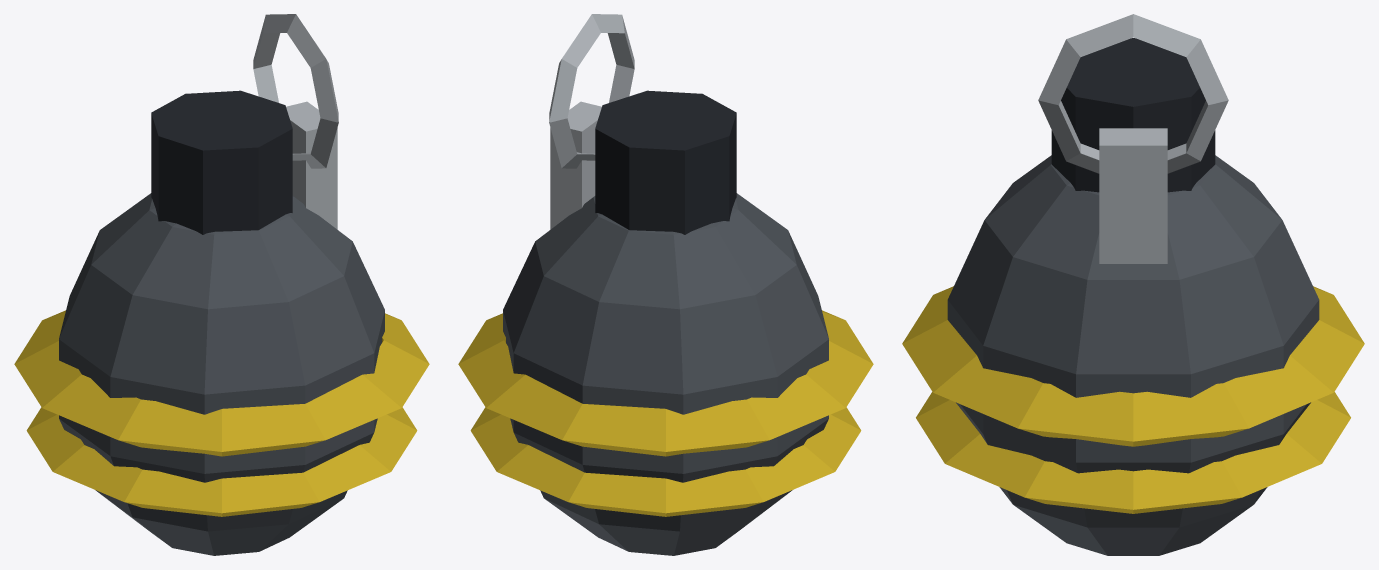
Rendered from grenade-deafening.glb.
3 renders of one model, left to right at view 1: azimuth 30°, elevation 25°; view 2: azimuth 150°, elevation 25°; view 3: azimuth 270°, elevation 25°, orthographic. The views are drawn at different scales.
Visible parts, largest first — view 1: m; view 2: m; view 3: m.
Part boxes in pixels (box(x1,y1,x2,y2)): m: box(14, 14, 429, 555); m: box(458, 14, 873, 555); m: box(902, 14, 1364, 555).
Bounding box in the file's own units: 0.059 × 0.08 × 0.059.
